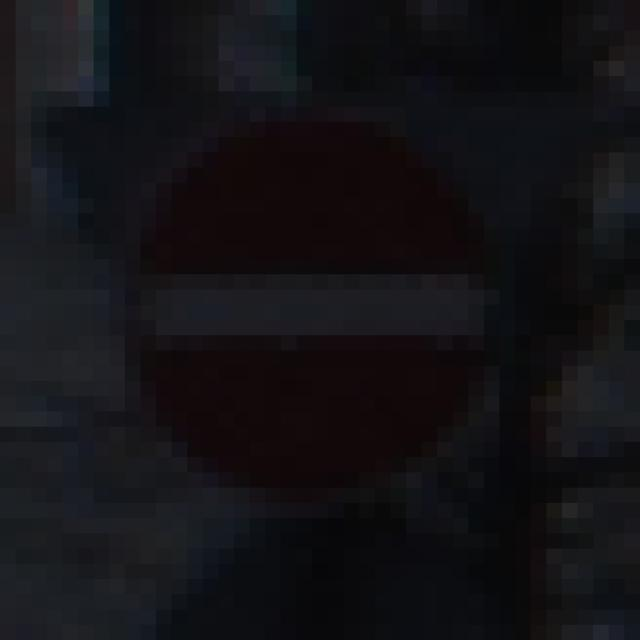No Entry: (79, 77, 563, 565)
